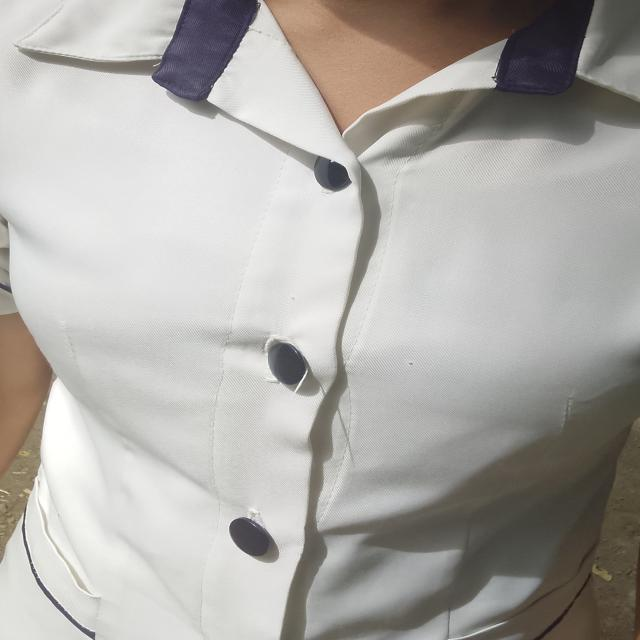education_female_uniform: (10, 1, 640, 639)
